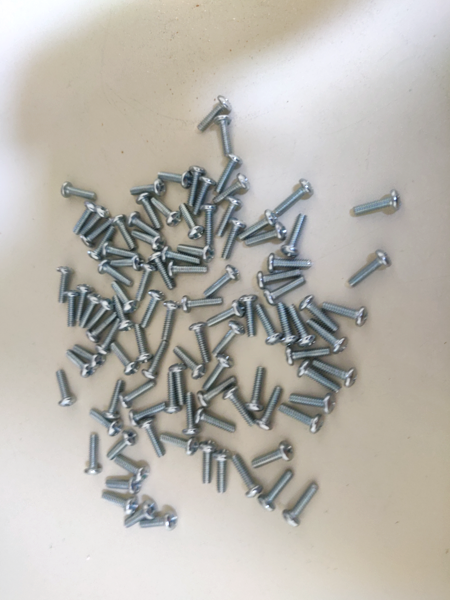shortscrew: (284, 483, 320, 527), (274, 178, 315, 216), (349, 250, 391, 287), (307, 318, 349, 355), (259, 470, 295, 513), (297, 360, 342, 393), (300, 297, 341, 332), (231, 454, 262, 498), (313, 358, 359, 387), (280, 405, 325, 434), (224, 385, 255, 427), (198, 96, 233, 133), (213, 321, 246, 359), (251, 442, 295, 470), (353, 191, 400, 217), (321, 302, 369, 327), (265, 277, 306, 306), (202, 354, 234, 391), (198, 377, 237, 407), (204, 265, 240, 297), (255, 387, 281, 431), (256, 304, 283, 346), (213, 174, 250, 204), (240, 210, 277, 240), (215, 154, 242, 195), (289, 305, 315, 347), (149, 251, 176, 291), (282, 214, 306, 258), (246, 220, 288, 245), (107, 430, 139, 462), (276, 302, 299, 346), (88, 225, 116, 261), (195, 409, 237, 433), (222, 218, 246, 260), (142, 342, 168, 380), (139, 417, 164, 456), (189, 322, 212, 364), (179, 203, 205, 240), (83, 218, 115, 248), (213, 449, 234, 494), (98, 260, 134, 286), (87, 313, 118, 343), (80, 206, 109, 238), (150, 198, 182, 227), (86, 298, 115, 330), (112, 214, 137, 251), (90, 409, 123, 437), (111, 343, 139, 376), (267, 253, 313, 273), (290, 395, 336, 415), (141, 290, 164, 330), (218, 197, 241, 237), (115, 455, 149, 482), (129, 402, 165, 427), (124, 501, 157, 528), (137, 192, 161, 229), (102, 491, 139, 515), (245, 368, 265, 412), (258, 269, 302, 289), (136, 262, 158, 302), (214, 115, 234, 157), (187, 166, 207, 208), (103, 380, 124, 420), (160, 434, 198, 456), (73, 344, 105, 370), (169, 363, 188, 406), (240, 294, 259, 337), (285, 349, 333, 366), (66, 350, 95, 378), (161, 301, 181, 341), (128, 212, 160, 237), (134, 323, 153, 364), (165, 371, 183, 414), (84, 434, 102, 476), (183, 393, 201, 435), (75, 201, 97, 235), (80, 294, 102, 328), (61, 181, 98, 201), (56, 370, 76, 407), (199, 440, 216, 483), (181, 296, 224, 313), (167, 261, 209, 278), (178, 244, 215, 263), (140, 512, 178, 530), (158, 171, 193, 190), (130, 180, 166, 198), (76, 285, 93, 323), (133, 231, 165, 251), (105, 477, 142, 494), (58, 267, 73, 304), (65, 291, 79, 327)
